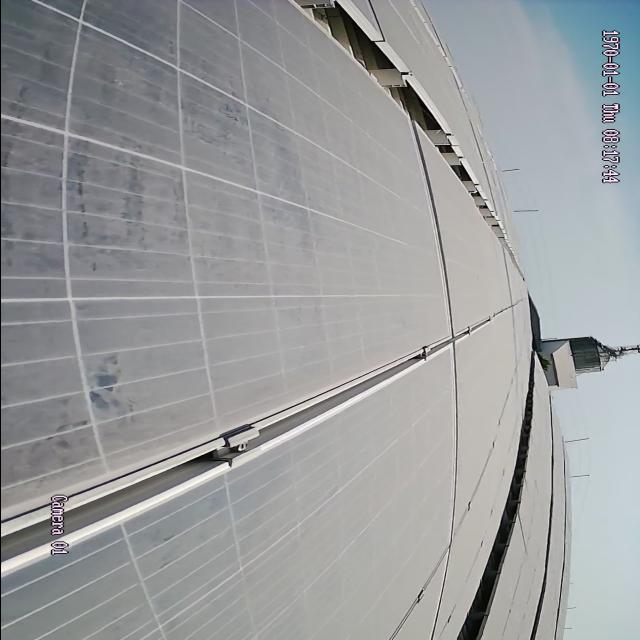interior panel: (10, 301, 513, 579), (412, 141, 468, 632)
outher panel: (290, 1, 511, 258), (453, 371, 535, 640)
